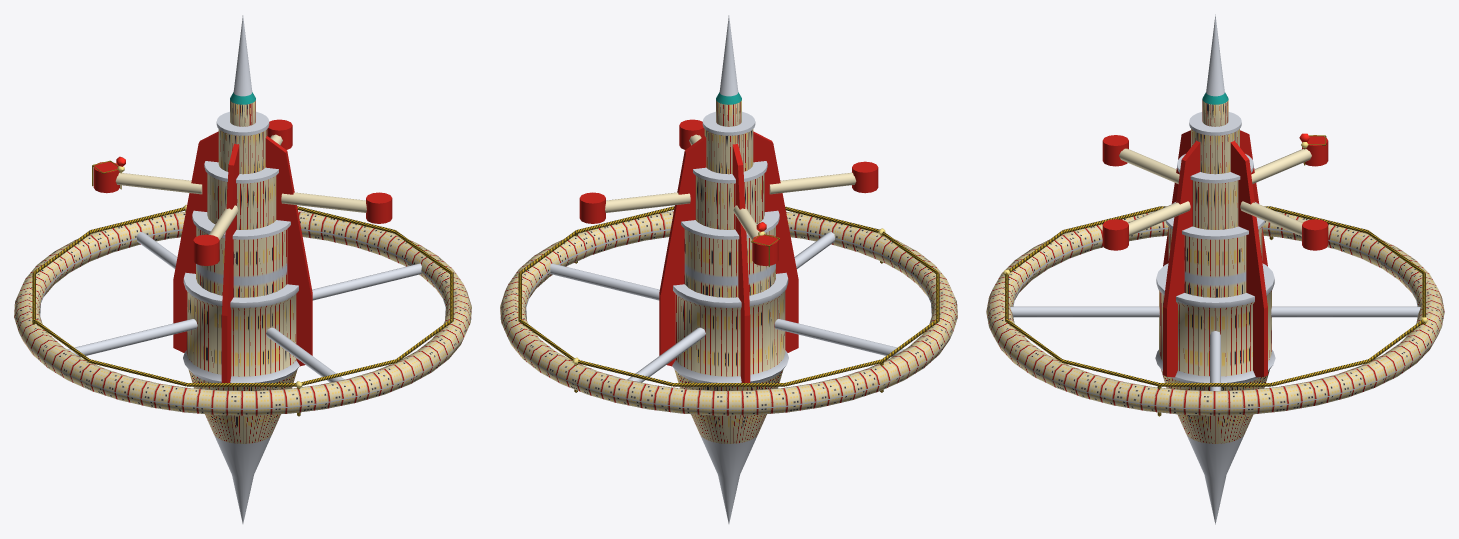
File: guard_station_build3.obj
3 renders of one model, left to right at view 1: azimuth 30°, elevation 25°; view 2: azimuth 150°, elevation 25°; view 3: azimuth 270°, elevation 25°, orthographic.
Visible parts, largest first — view 1: tower, ring, spoke, buttress135, girder, buttress315, cradle, arm, buttress225; view 2: tower, ring, spoke, buttress45, girder, buttress225, cradle, arm, buttress315; view 3: tower, ring, spoke, girder, buttress45, buttress135, arm, cradle.
Boxes of the visible parts, x1=… form: tower: x1=183, y1=15, x2=299, y2=523; ring: x1=14, y1=211, x2=471, y2=415; spoke: x1=67, y1=232, x2=421, y2=382; buttress135: x1=265, y1=136, x2=312, y2=366; girder: x1=32, y1=160, x2=453, y2=386; buttress315: x1=173, y1=131, x2=218, y2=352; cradle: x1=93, y1=119, x2=392, y2=265; arm: x1=115, y1=134, x2=366, y2=240; buttress225: x1=221, y1=143, x2=239, y2=382; tower: x1=672, y1=15, x2=788, y2=523; ring: x1=500, y1=211, x2=957, y2=415; spoke: x1=550, y1=232, x2=904, y2=382; buttress45: x1=659, y1=136, x2=706, y2=366; girder: x1=518, y1=206, x2=939, y2=386; buttress225: x1=753, y1=131, x2=798, y2=352; cradle: x1=579, y1=119, x2=878, y2=265; arm: x1=605, y1=134, x2=856, y2=240; buttress315: x1=732, y1=143, x2=750, y2=382; tower: x1=1155, y1=14, x2=1275, y2=524; ring: x1=986, y1=212, x2=1444, y2=415; spoke: x1=1010, y1=306, x2=1420, y2=390; girder: x1=1005, y1=135, x2=1425, y2=386; buttress45: x1=1230, y1=140, x2=1267, y2=377; buttress135: x1=1163, y1=140, x2=1200, y2=377; arm: x1=1119, y1=148, x2=1311, y2=236; cradle: x1=1102, y1=135, x2=1328, y2=250.
Bounding box in the file's own units: 244 × 300 × 244.
8 materials, 2 textured.
